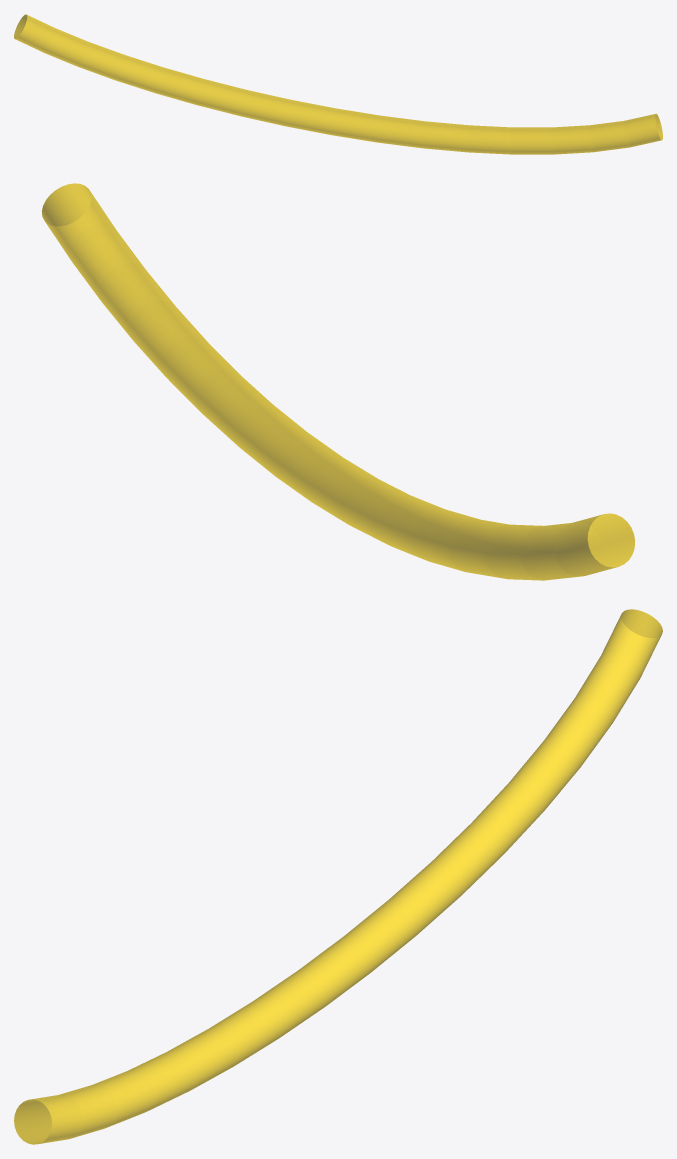
The model's file is Event_75125125_track_74.fbx.
The picture shows the model from 3 angles, top to bottom: view 1: azimuth 30°, elevation 25°; view 2: azimuth 150°, elevation 25°; view 3: azimuth 270°, elevation 25°; orthographic projection. The views are drawn at different scales.
Visible parts, largest first — view 1: Model; view 2: Model; view 3: Model.
Boxes of the visible parts, box(x1,y1,x2,y2) form: Model: box(14, 14, 662, 154); Model: box(41, 183, 635, 580); Model: box(14, 609, 662, 1144).
Bounding box in the file's own units: 0.7935 × 0.1955 × 0.5706.
